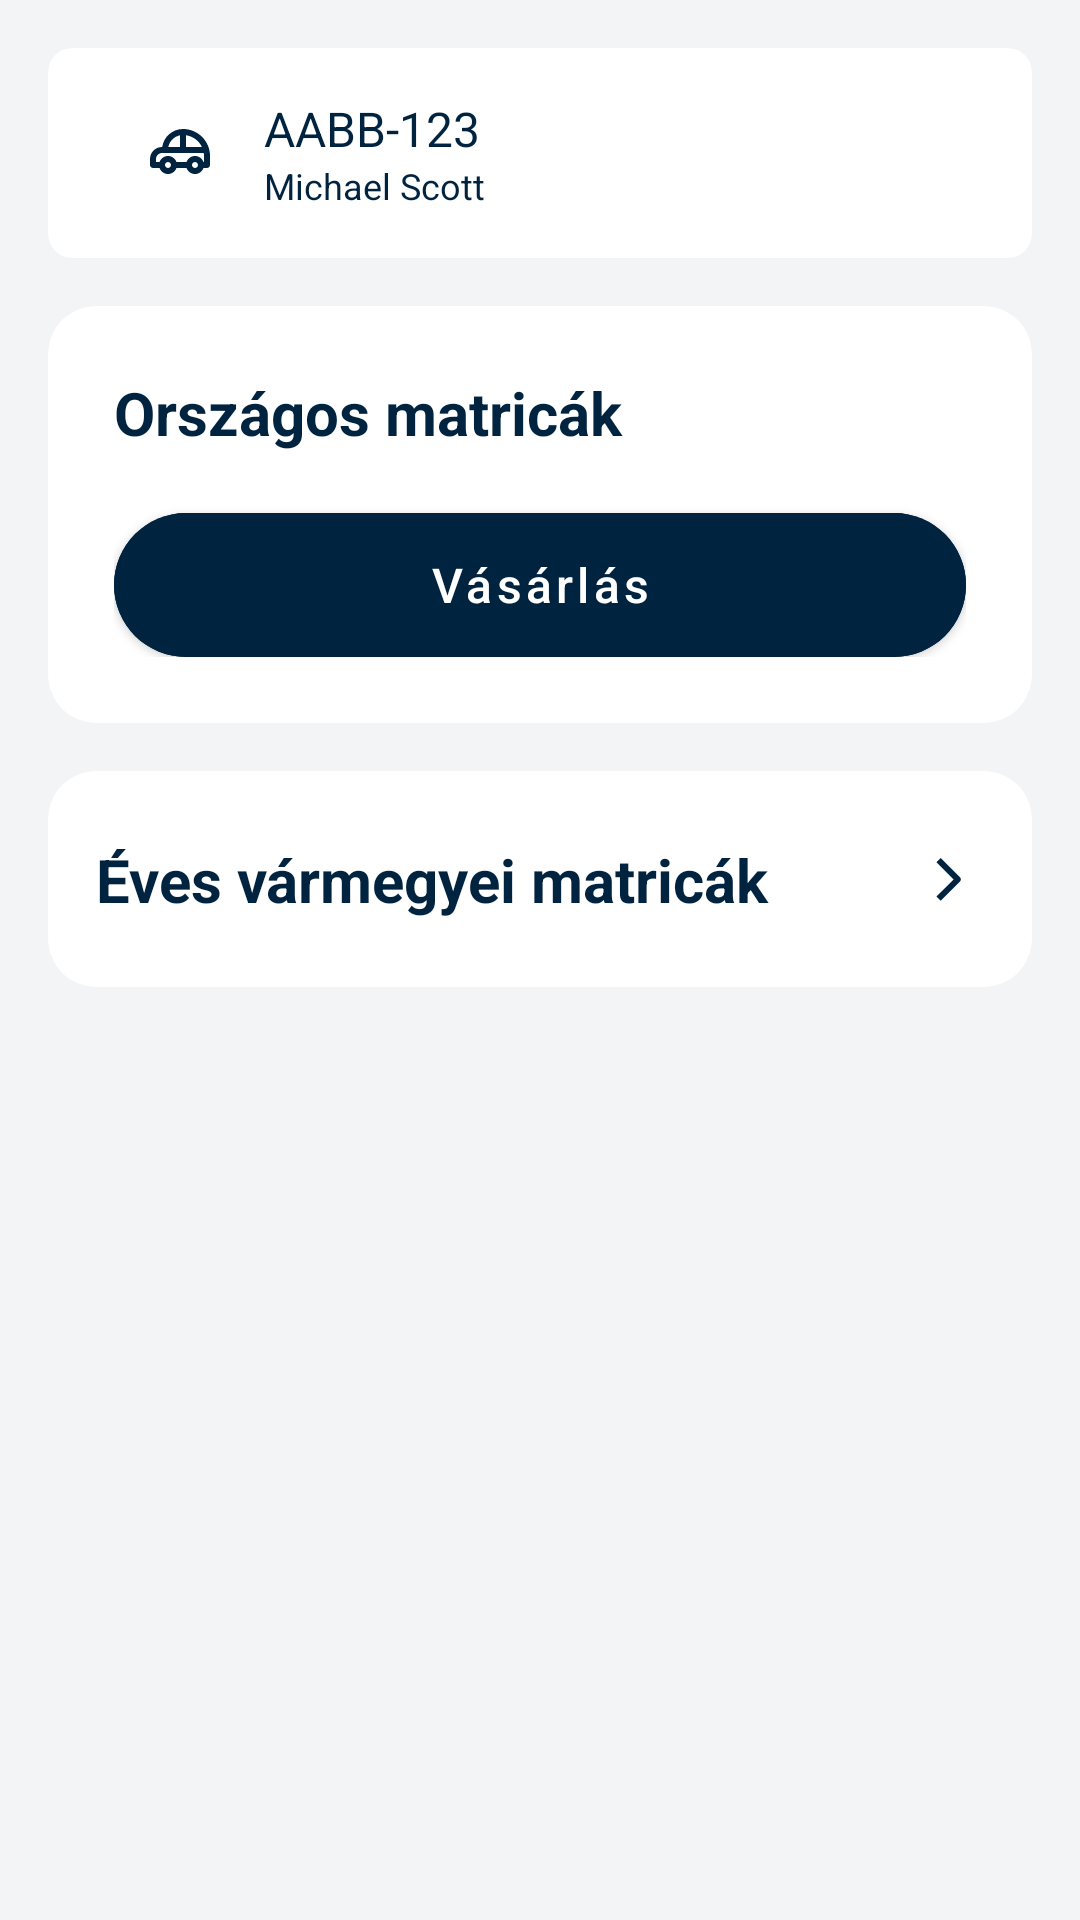

Icons on this 1080x1920 Android screen, each with the point to tap as (x,y):
car: (180,151)
chevron right: (948,879)
